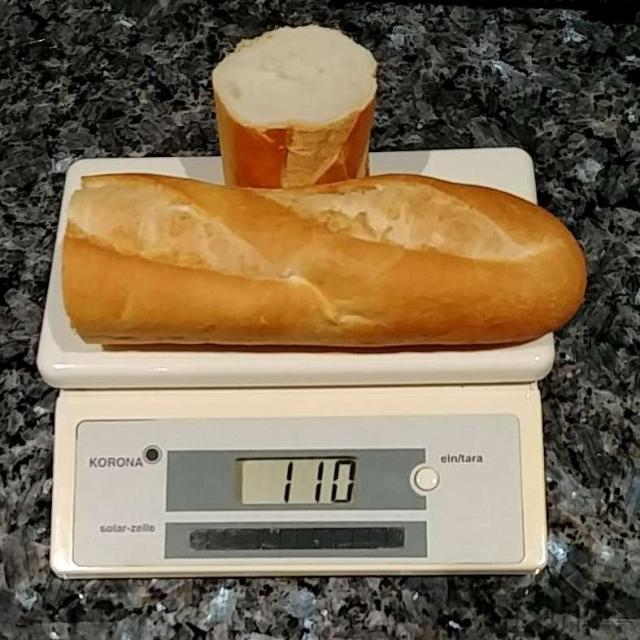bread: (69, 17, 611, 342)
